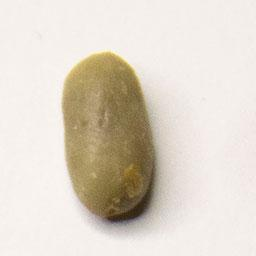longberry: (58, 48, 160, 221)
